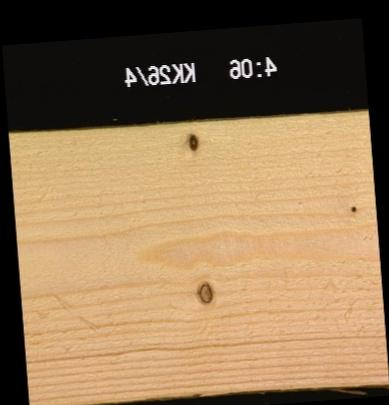dry_knot: (196, 279, 213, 304), (186, 131, 199, 151)
small_knot: (348, 202, 358, 213)
